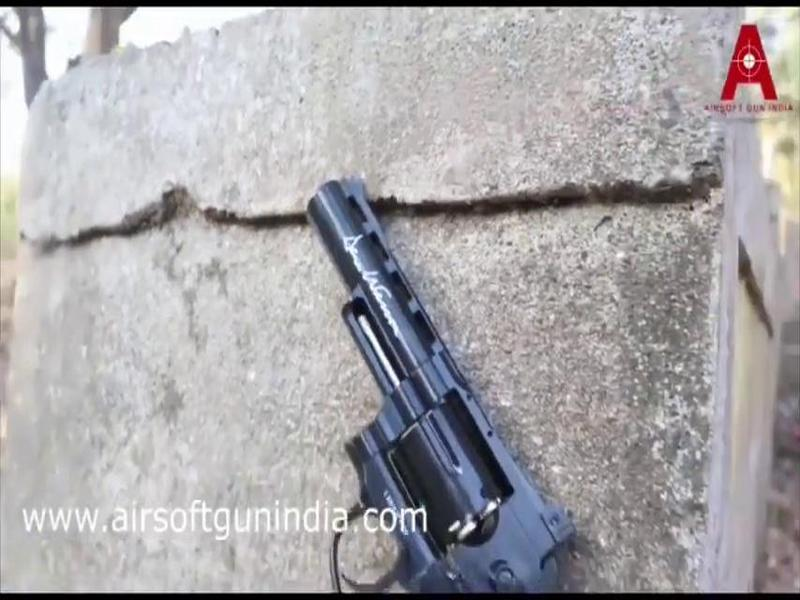Revolver: (279, 168, 578, 600)
